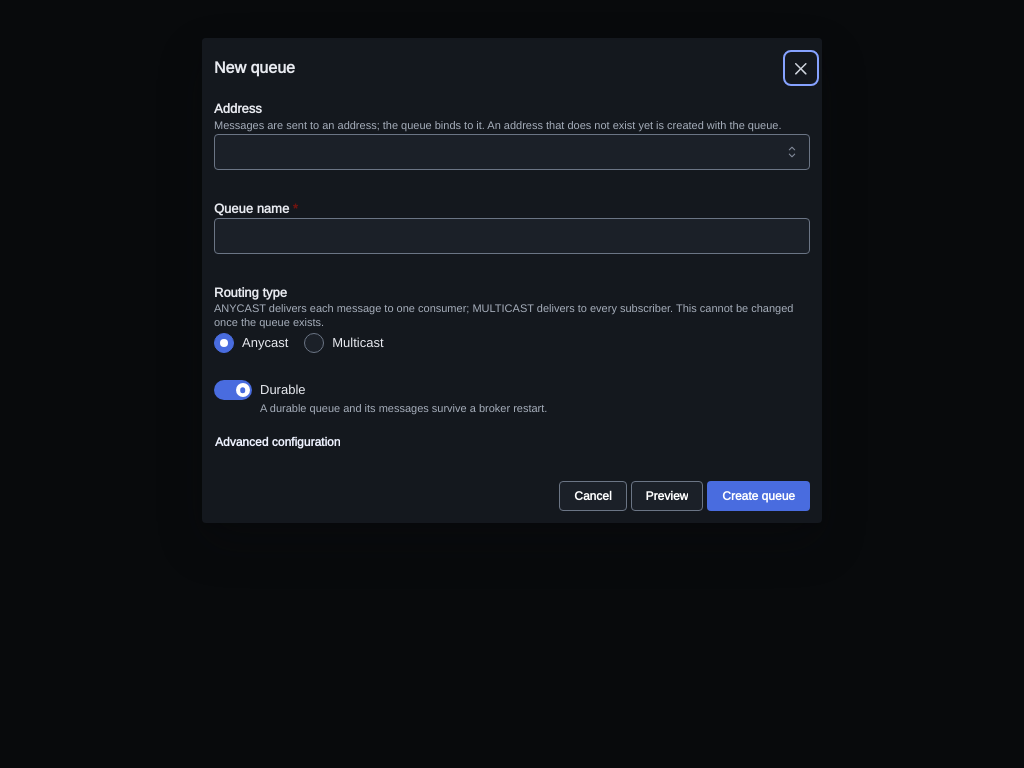
CreateQueueForm › validates a required field when the operator leaves it, before any submit
Click the field labelled "Queue name *" at (512, 236), box [214,218,810,254]
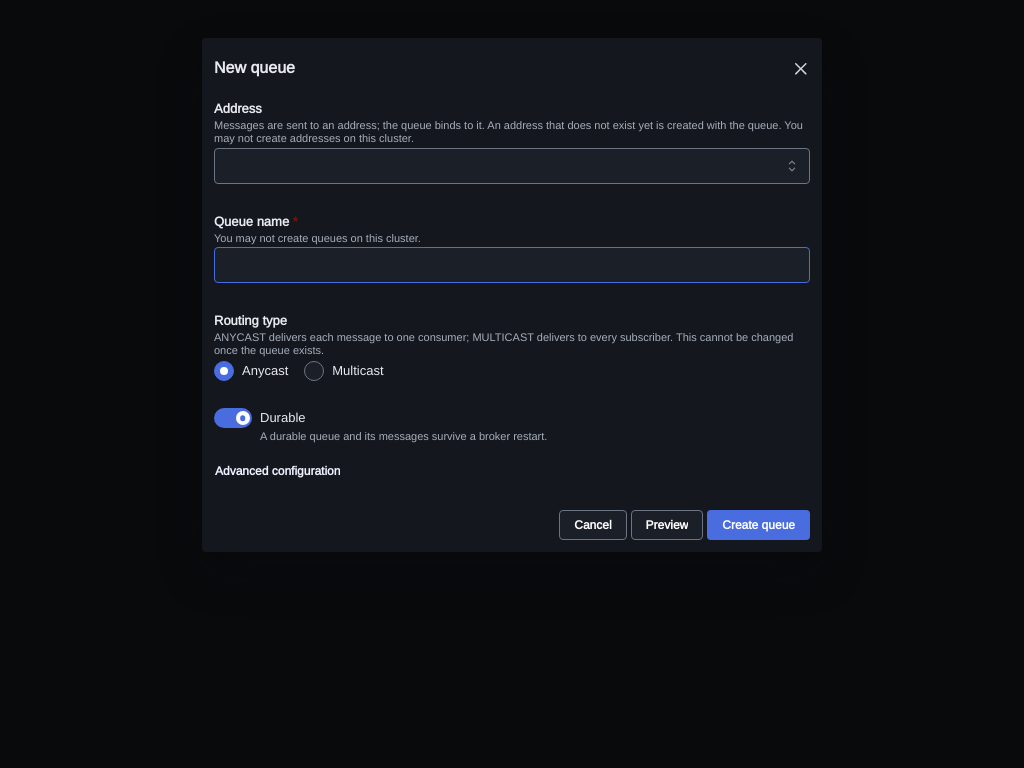
Press Tab
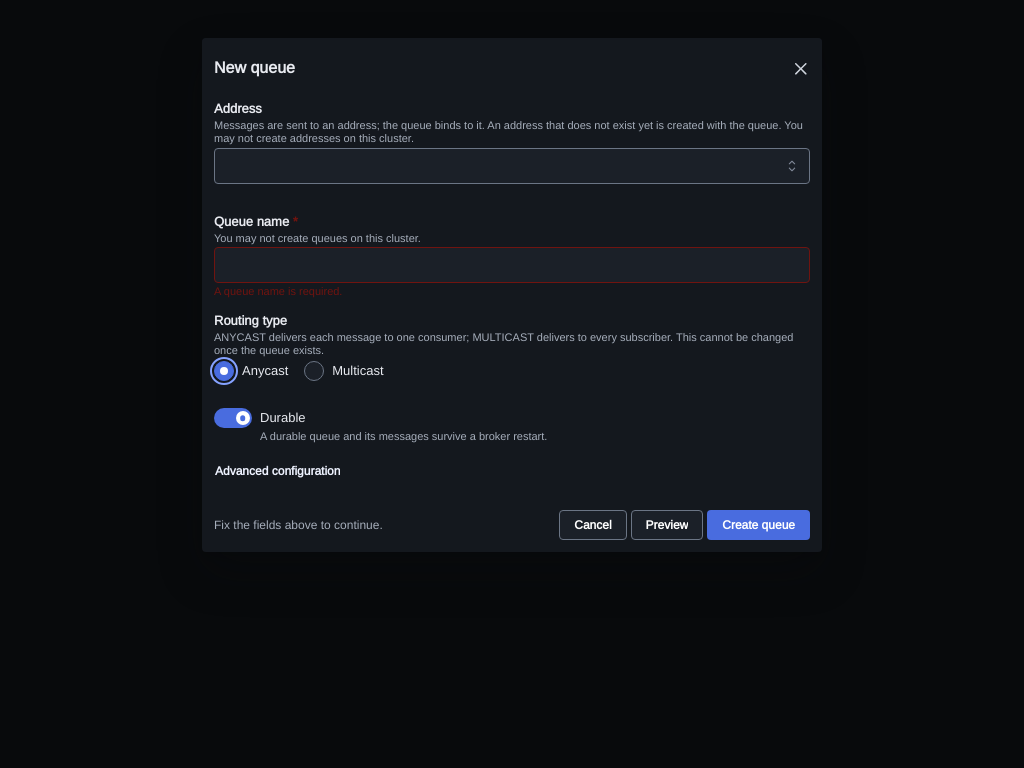
Now the text "A queue name is required." is shown, box [214,284,342,298]
